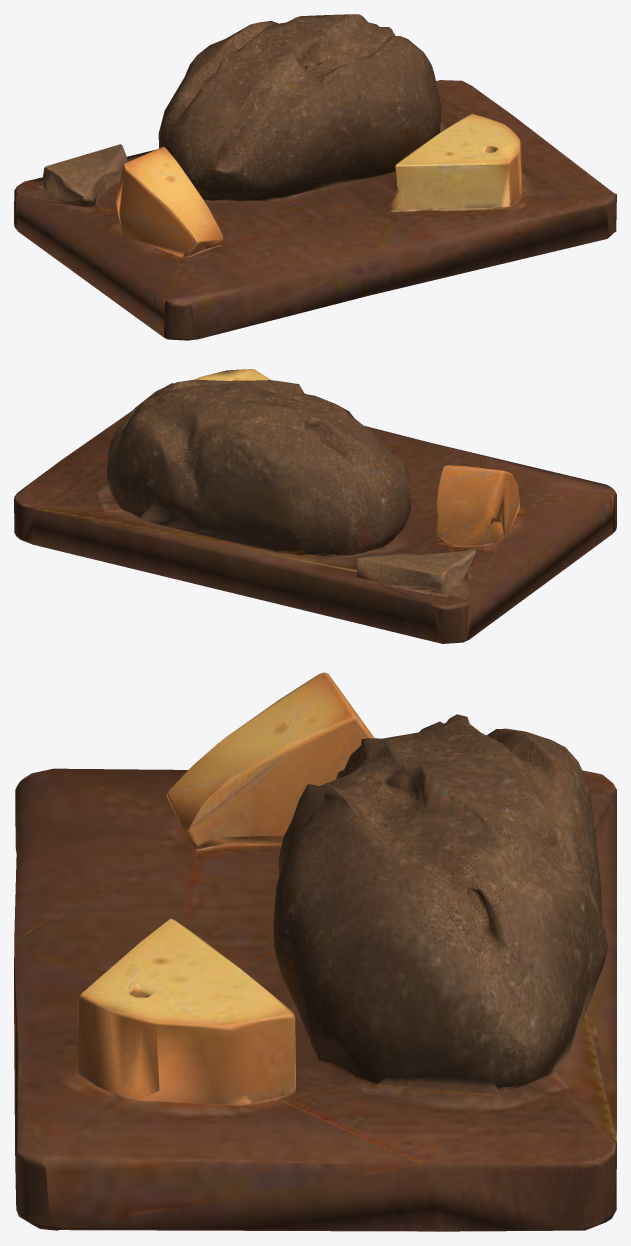
The model's file is bread.glb.
3 views of the same model, one above another, from view 1: azimuth 30°, elevation 25°; view 2: azimuth 150°, elevation 25°; view 3: azimuth 270°, elevation 25° (orthographic). The views are drawn at different scales.
Parts seen in each view (by area): view 1: bread; view 2: bread; view 3: bread.
Boxes of the visible parts, x1=… form: bread: x1=14, y1=14, x2=616, y2=340; bread: x1=14, y1=369, x2=616, y2=643; bread: x1=14, y1=672, x2=616, y2=1231.
Size of the model in its own units: 0.5 by 0.18 by 0.32.
1 material, 1 textured.
